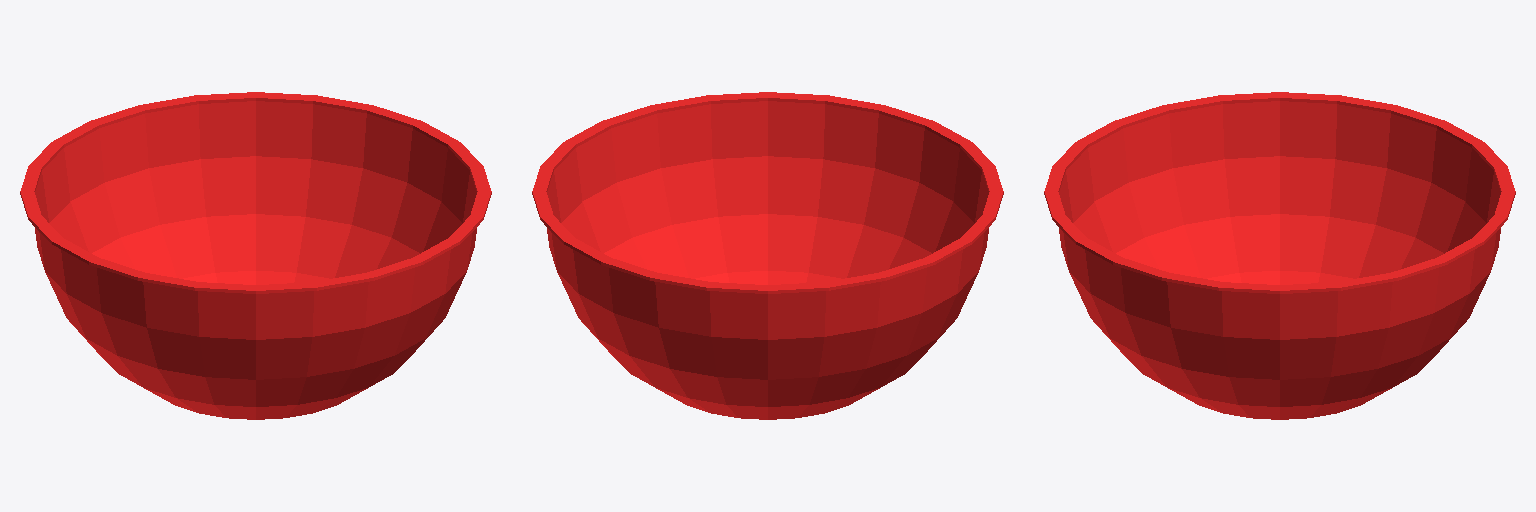
URDF robot description (bowl):
<?xml version="0.0" ?>
<robot name="bowl">
    <link concave="yes" name="base_link">
        <!-- <contact>
            <lateral_friction value="3.0"/>
            <rolling_friction value="3.0"/>
            <spinning_friction value="3.0"/>
        </contact> -->
        <inertial>
            <origin xyz="0 0 0.03"/>
            <mass value="1"/>
            <inertia ixx="1" ixy="0" ixz="0" iyy="1" iyz="0" izz="1"/>
        </inertial>
        <visual>
            <origin xyz="-0.055 -0.055 0"/>
            <geometry>
                <mesh filename="bowl.obj" scale="0.007 0.007 0.007 "/>
            </geometry>
      <material name="bowl">
        <color rgba="1 0.2 0.2 1"/>
        <specular rgb="1 1 1"/>
      </material>
        </visual>
        <collision concave="yes">
            <origin xyz="-0.055 -0.055 0"/>
            <geometry>
                <mesh filename="bowl.obj" scale="0.007 0.007 0.007 "/>
            </geometry>
        </collision>
    </link>
</robot>

--- Render facts (derived) ---
The picture shows the robot from 3 angles, left to right: view 1: azimuth 30°, elevation 25°; view 2: azimuth 150°, elevation 25°; view 3: azimuth 270°, elevation 25°; orthographic projection.
Model bowl with 1 links and 0 joints (none), rooted at base_link, posed all joints at 0.
Visible links, largest first — view 1: base_link; view 2: base_link; view 3: base_link.
Link boxes in pixels (box(x1,y1,x2,y2)): base_link: box(20, 92, 491, 419); base_link: box(532, 92, 1003, 419); base_link: box(1044, 92, 1515, 419).
Size in the robot's own frame: 0.119 by 0.119 by 0.058 metres.
1 mesh visuals loaded from 1 distinct referenced files (1 OBJ).